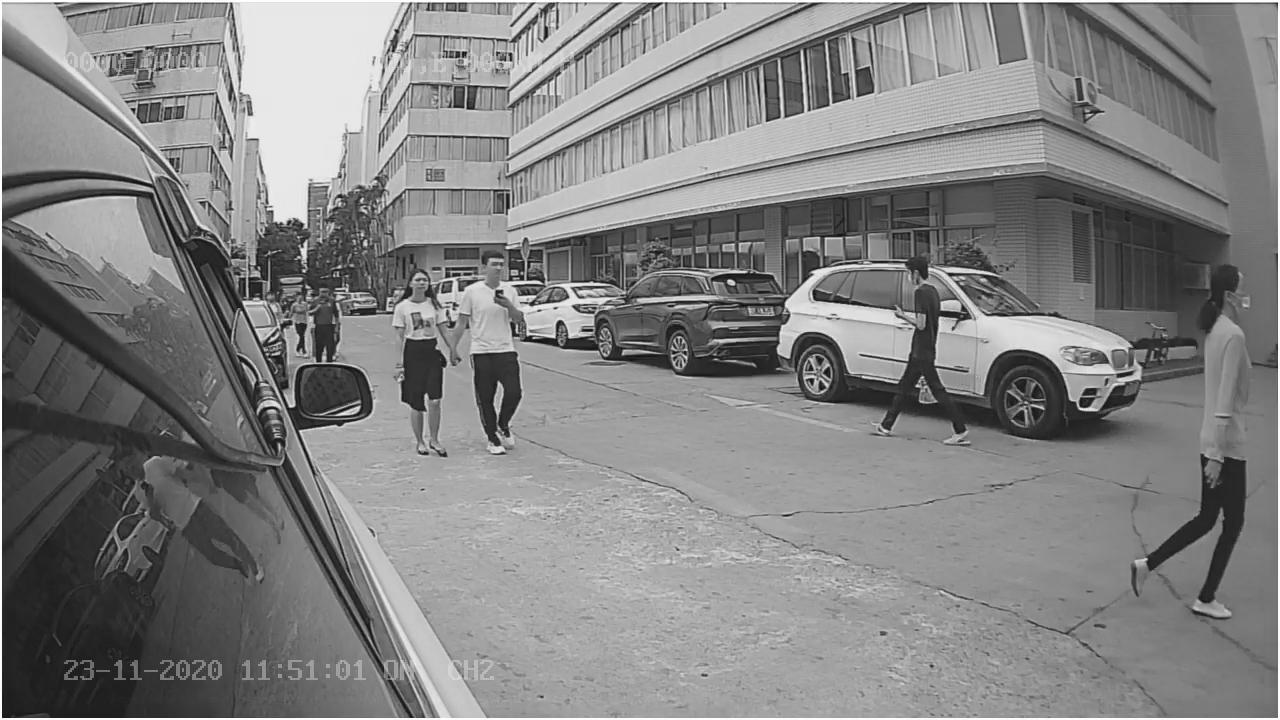person: (1125, 249, 1256, 616), (865, 253, 975, 446), (390, 264, 462, 462)
